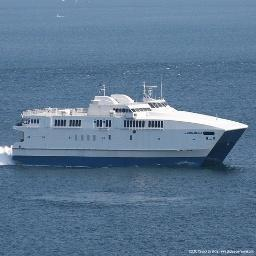otherboat: (2, 83, 247, 168)
